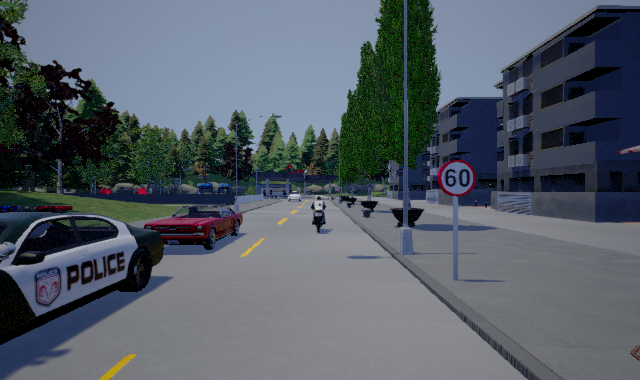motobike: (311, 196, 328, 234)
traffic_sign: (438, 160, 476, 197), (335, 186, 340, 192)
vehicle: (1, 204, 166, 345), (143, 202, 243, 250), (286, 191, 302, 202)
